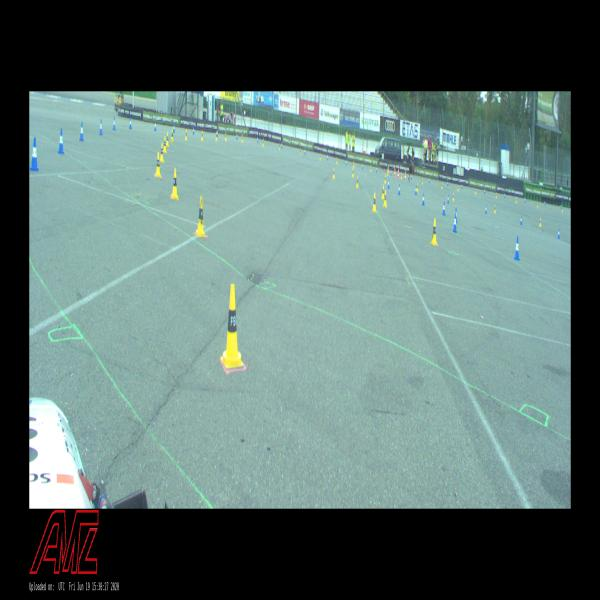blue_cone: (30, 137, 39, 170), (58, 128, 64, 153), (514, 236, 520, 260), (79, 121, 84, 141), (453, 213, 457, 233), (99, 119, 103, 135), (455, 207, 458, 224), (442, 202, 445, 215), (113, 117, 116, 130), (422, 193, 425, 205), (129, 117, 132, 128), (557, 228, 560, 239), (398, 184, 400, 195), (520, 215, 522, 225), (154, 121, 156, 131), (173, 122, 175, 132), (414, 185, 416, 195), (485, 205, 487, 214), (447, 195, 449, 203), (388, 178, 389, 189), (193, 126, 194, 134)
yellow_cone: (220, 284, 244, 369), (194, 195, 206, 236), (171, 168, 179, 200), (431, 219, 438, 245), (155, 152, 161, 177), (372, 192, 377, 212), (160, 143, 164, 162), (383, 190, 387, 207), (163, 137, 167, 153), (381, 185, 385, 199), (170, 129, 174, 142), (166, 132, 169, 146), (356, 175, 358, 188), (332, 168, 334, 179), (201, 130, 203, 141), (352, 167, 354, 178), (185, 129, 187, 140), (216, 131, 218, 141), (539, 217, 541, 226), (494, 204, 496, 213), (241, 134, 243, 143), (225, 132, 227, 141), (384, 175, 386, 183), (336, 156, 338, 164), (457, 185, 459, 192), (453, 192, 454, 202), (417, 182, 418, 192), (263, 138, 264, 147), (279, 142, 280, 150), (353, 160, 354, 168), (422, 178, 423, 185), (496, 192, 497, 198)
